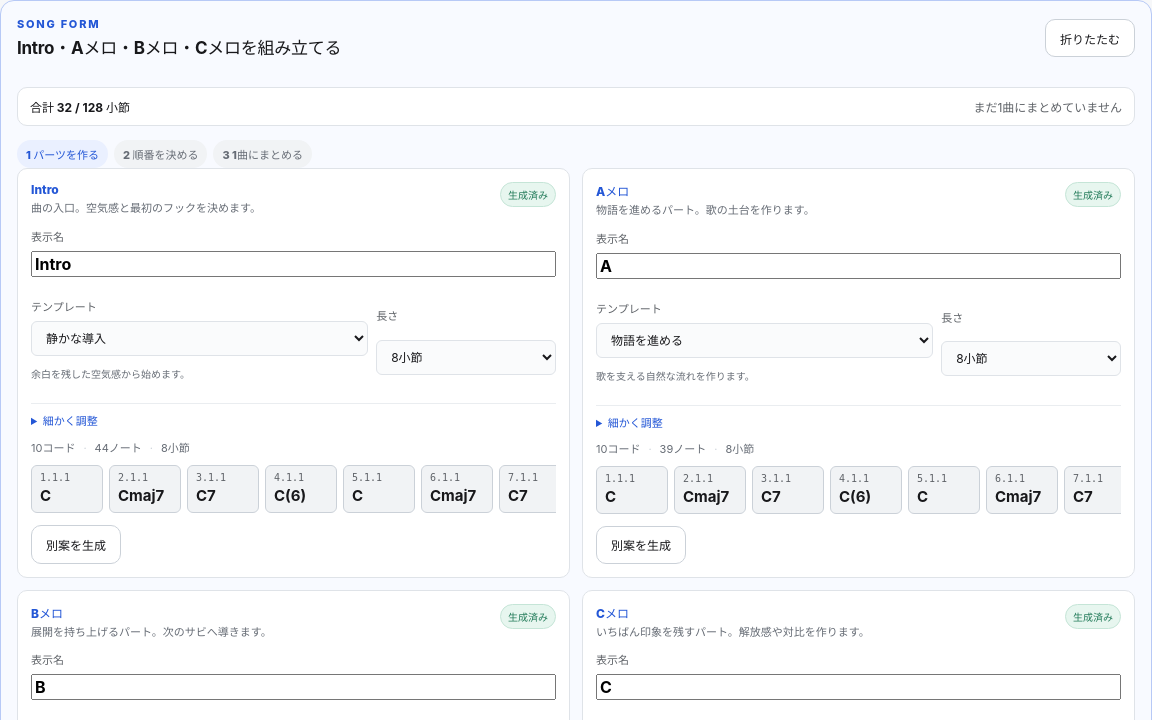
Test: SectionArrangementBuilder › keeps the bar and status summary visible while collapsed
What coordinates should you click on to do the following:
click the button with class "section-arrangement-toggle"
I would click on:
 (1090, 38)
Its box is [1045,19,1135,57].
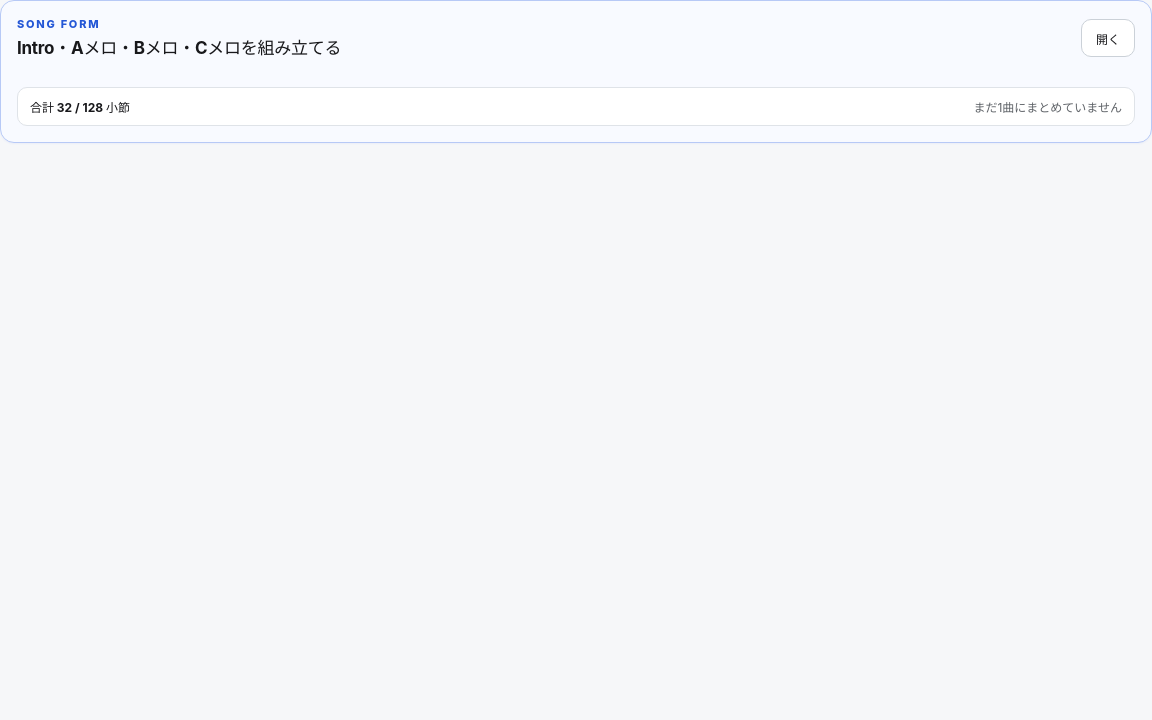
Expected: the message with class "section-arrangement-summary" shows "合計 32 / 128 小節", [17,87,1135,126]
Now the button with class "section-arrangement-toggle" is collapsed, box [1081,19,1135,57]
